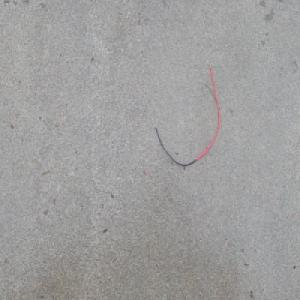Wire: (149, 58, 221, 168)
